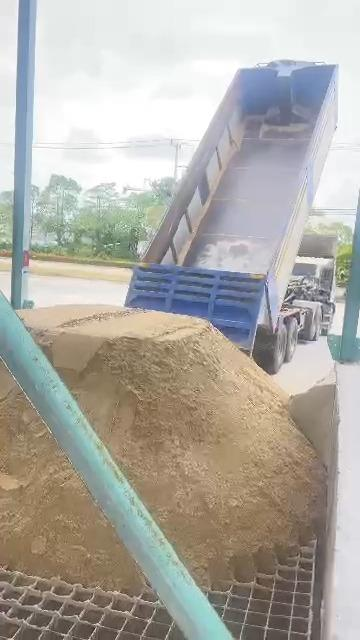sand: (23, 307, 324, 584), (0, 368, 141, 588), (290, 372, 338, 473)
